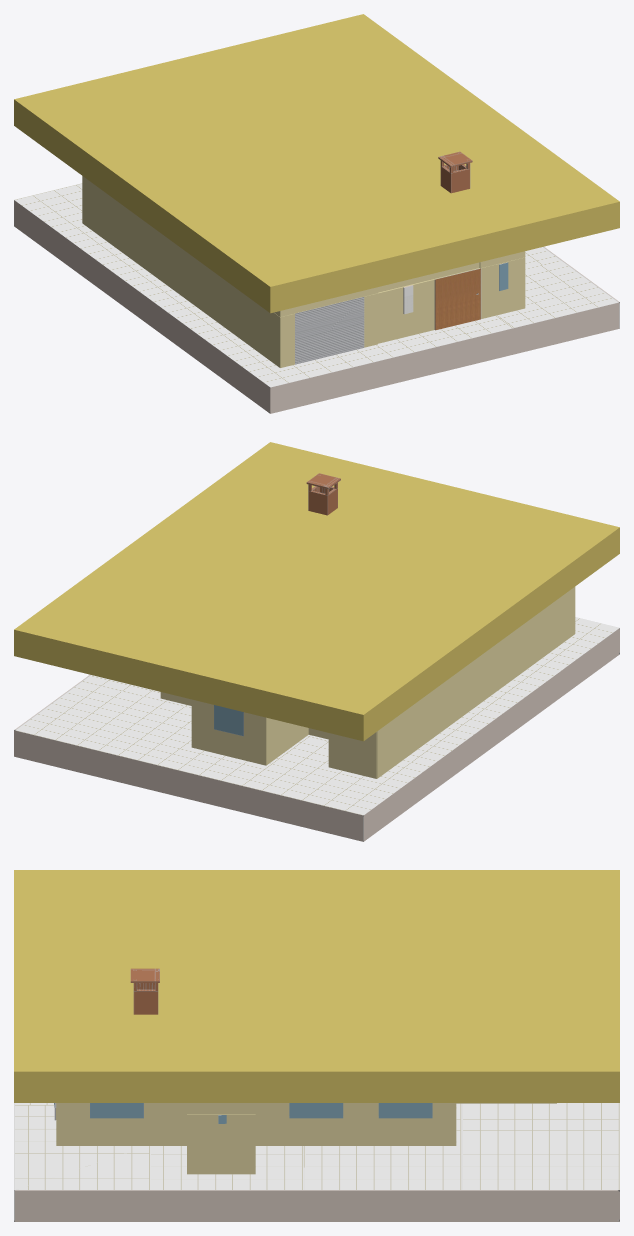
Rendered from YellowHouse.fbx.
3 renders of one model, top to bottom at view 1: azimuth 30°, elevation 25°; view 2: azimuth 150°, elevation 25°; view 3: azimuth 270°, elevation 25°, orthographic. The views are drawn at different scales.
Visible parts, largest first — view 1: Telhado, BaseCasa, Paredes, PortaGaragem, FechaduraSala, CabecaParedes, Chamine; view 2: Telhado, BaseCasa, Paredes, Chamine, JanelaQuarto3; view 3: Telhado, BaseCasa, Paredes, Chamine, JanelaQuarto1, JanelaQuarto2, JanelaSala, CabecaParedes.
Part boxes in pixels (<box>): Telhado: <box>14,14,619,313</box>; BaseCasa: <box>14,183,619,413</box>; Paredes: <box>82,176,525,367</box>; PortaGaragem: <box>295,297,364,364</box>; FechaduraSala: <box>434,268,481,330</box>; CabecaParedes: <box>274,251,525,316</box>; Chamine: <box>438,151,472,193</box>; Telhado: <box>14,442,619,741</box>; BaseCasa: <box>14,617,619,841</box>; Paredes: <box>160,587,575,778</box>; Chamine: <box>306,473,340,515</box>; JanelaQuarto3: <box>214,705,243,736</box>; Telhado: <box>14,870,619,1102</box>; BaseCasa: <box>14,1103,619,1221</box>; Paredes: <box>56,1103,556,1174</box>; Chamine: <box>130,968,159,1014</box>; JanelaQuarto1: <box>289,1103,343,1118</box>; JanelaQuarto2: <box>378,1103,432,1118</box>; JanelaSala: <box>90,1103,143,1118</box>; CabecaParedes: <box>187,1103,255,1113</box>.
Bounding box in the file's own units: 72.23 × 30.76 × 91.75.
14 materials, 14 textured.
